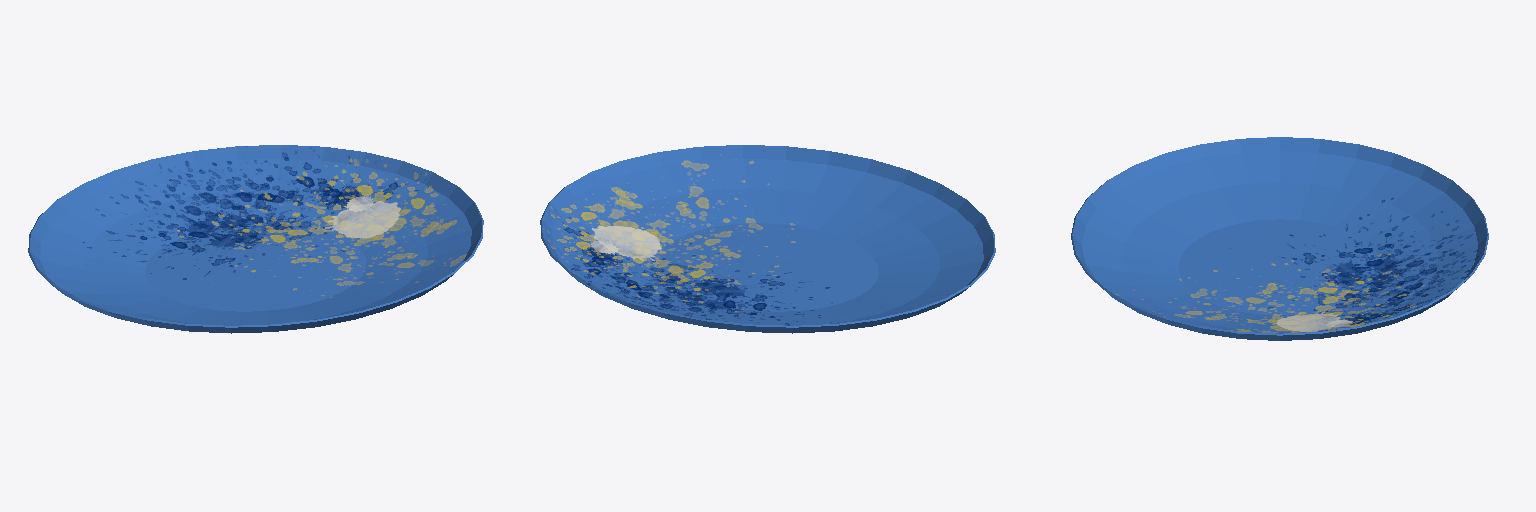
3 views of the same model, side by side, from view 1: azimuth 30°, elevation 25°; view 2: azimuth 150°, elevation 25°; view 3: azimuth 270°, elevation 25° (orthographic).
Visible parts, largest first — view 1: Cylinder.025; view 2: Cylinder.025; view 3: Cylinder.025.
Boxes of the visible parts, <box> form: Cylinder.025: <box>28,145,483,333</box>; Cylinder.025: <box>540,145,995,333</box>; Cylinder.025: <box>1071,137,1488,340</box>.
Size of the model in its own units: 0.1768 by 0.0172 by 0.1578.
Materials: 1 (1 with a texture image).